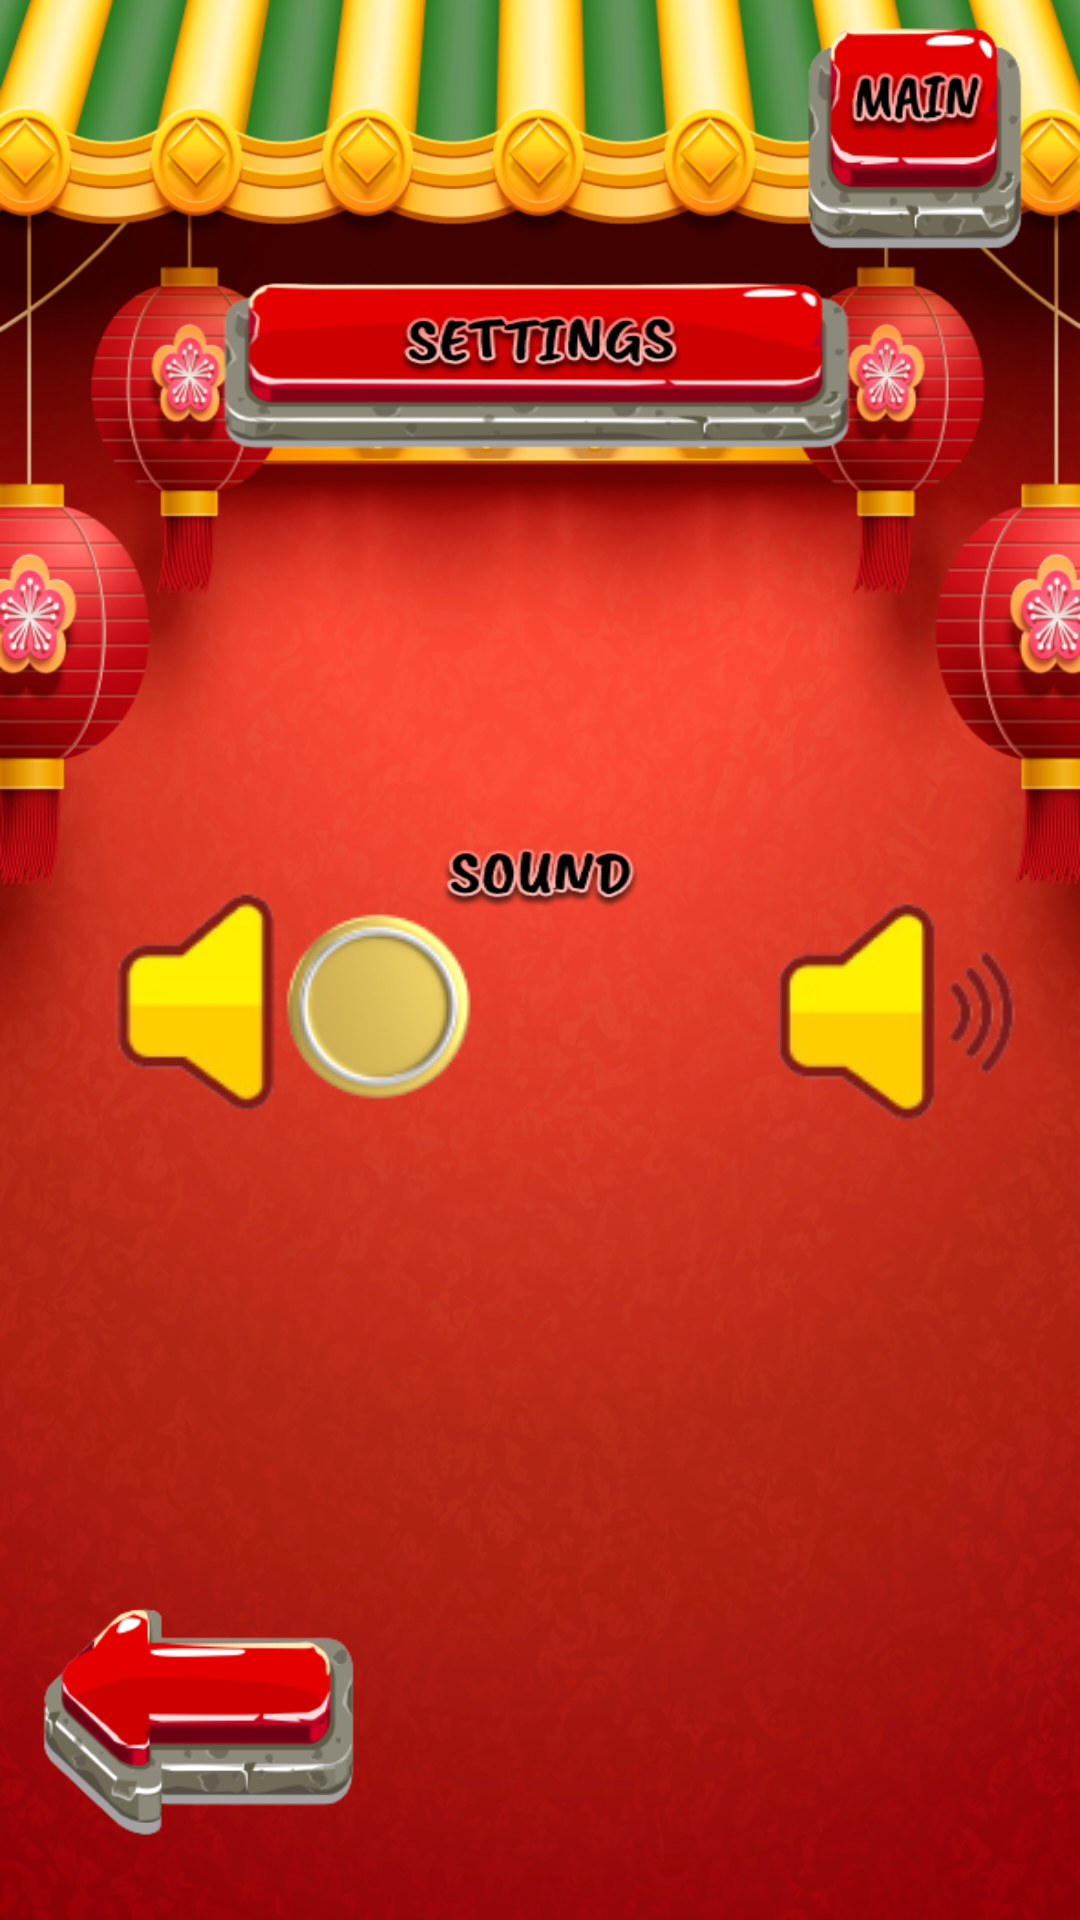

Named icons in this screenshot (1080 x 1920) and their centers, (x=x, y=y):
back tap: (x=202, y=1703)
on off: (x=382, y=1002)
sound off: (x=215, y=978)
sound on: (x=898, y=1020)
